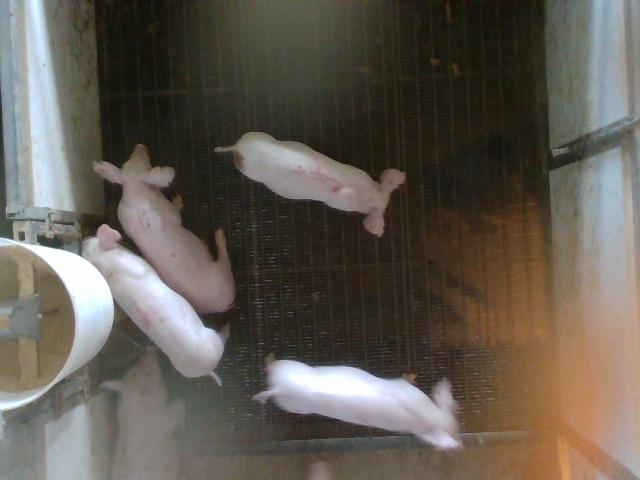pig-4: (82, 225, 225, 384)
pig-5: (215, 131, 405, 236)
